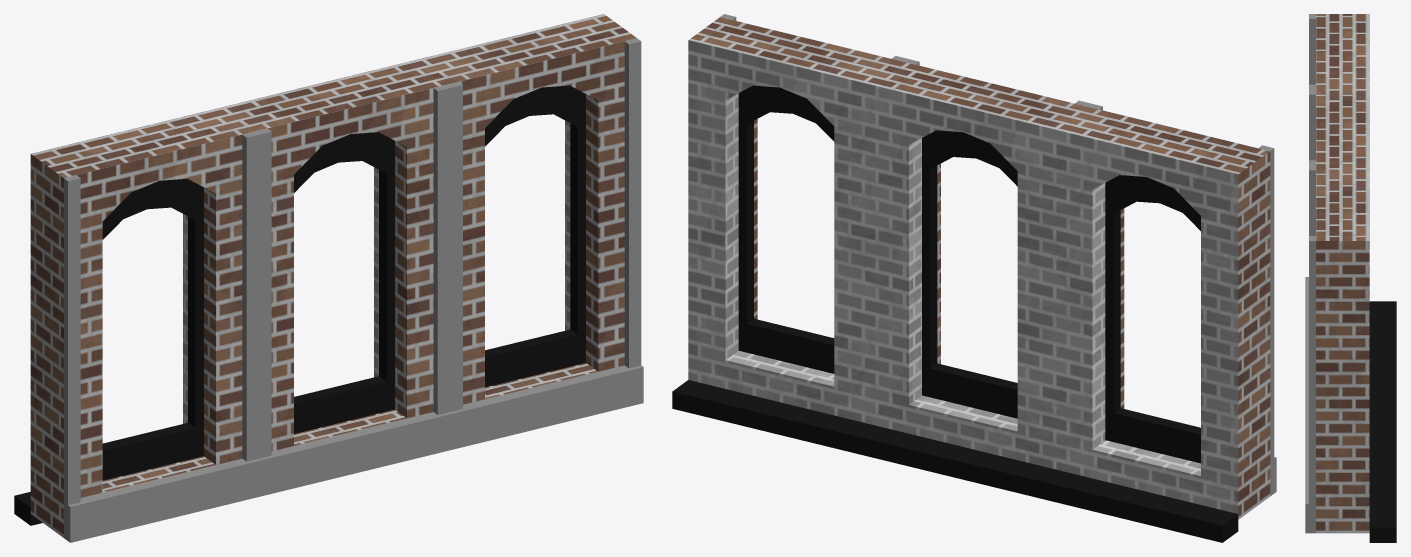
Rendered from Straight_Wall_007.FBX.
3 views of the same model, side by side, from view 1: azimuth 30°, elevation 25°; view 2: azimuth 150°, elevation 25°; view 3: azimuth 270°, elevation 25° (orthographic). The views are drawn at different scales.
Parts seen in each view (by area): view 1: Straight_Wall_007; view 2: Straight_Wall_007; view 3: Straight_Wall_007.
Part boxes in pixels (<box>): Straight_Wall_007: <box>14,14,643,542</box>; Straight_Wall_007: <box>672,14,1276,542</box>; Straight_Wall_007: <box>1305,14,1396,542</box>.
Size of the model in its own units: 500 by 85 by 310.
